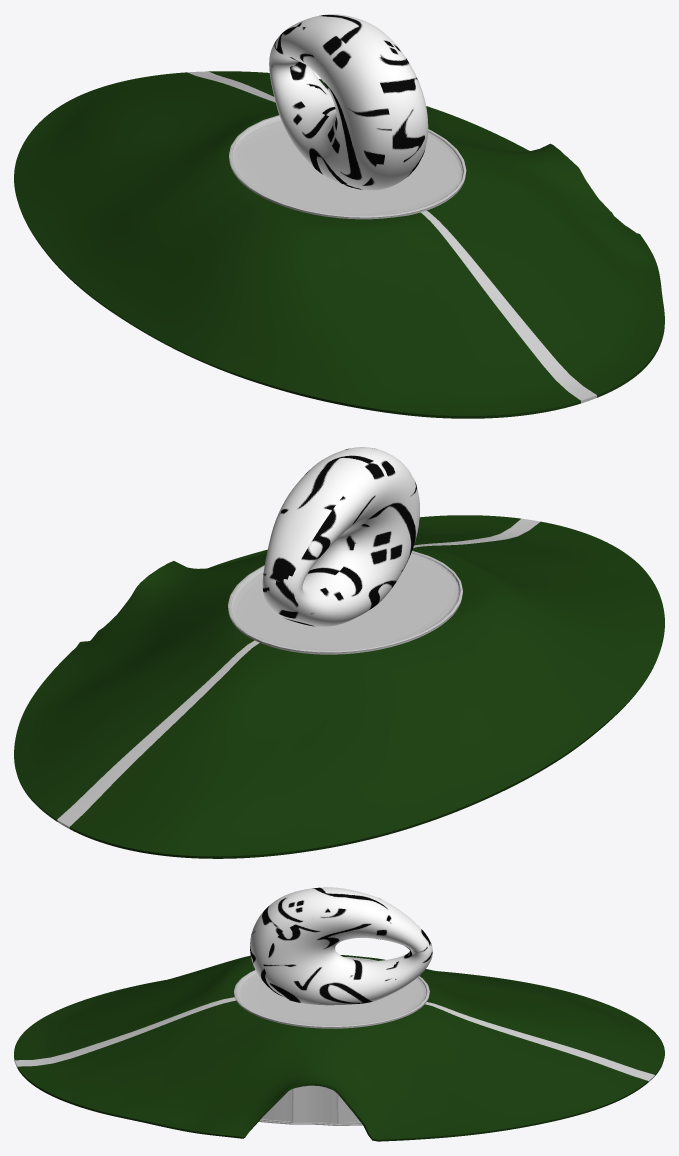
Rendered from Museum_Of_The_Future.fbx.
3 renders of one model, top to bottom at view 1: azimuth 30°, elevation 25°; view 2: azimuth 150°, elevation 25°; view 3: azimuth 270°, elevation 25°, orthographic. The views are drawn at different scales.
Parts seen in each view (by area): view 1: grass, building, flore; view 2: grass, building, flore; view 3: grass, building, flore, glass gate.
Boxes of the visible parts, box(x1,y1,x2,y2) form: grass: box(14, 71, 664, 418); building: box(269, 14, 428, 190); flore: box(229, 115, 466, 219); grass: box(14, 515, 664, 858); building: box(262, 447, 419, 626); flore: box(228, 550, 462, 654); grass: box(14, 955, 664, 1141); building: box(250, 887, 432, 1005); flore: box(234, 957, 429, 1028); glass gate: box(259, 1085, 362, 1125).
Size of what is drawn, in the model's own units: 879 by 392 by 1397.
